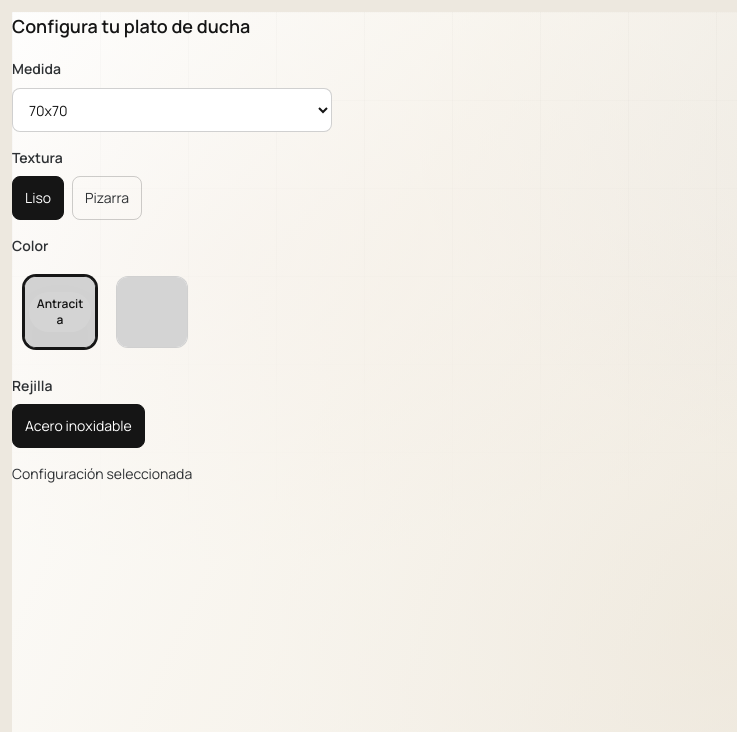
Test: duplach conventional selector › hides incompatible textures for Stone Plus measures instead of offering fakes
Select "100x100" in the dropdown labelled "Medida" at (172, 110), box [12, 88, 332, 132]
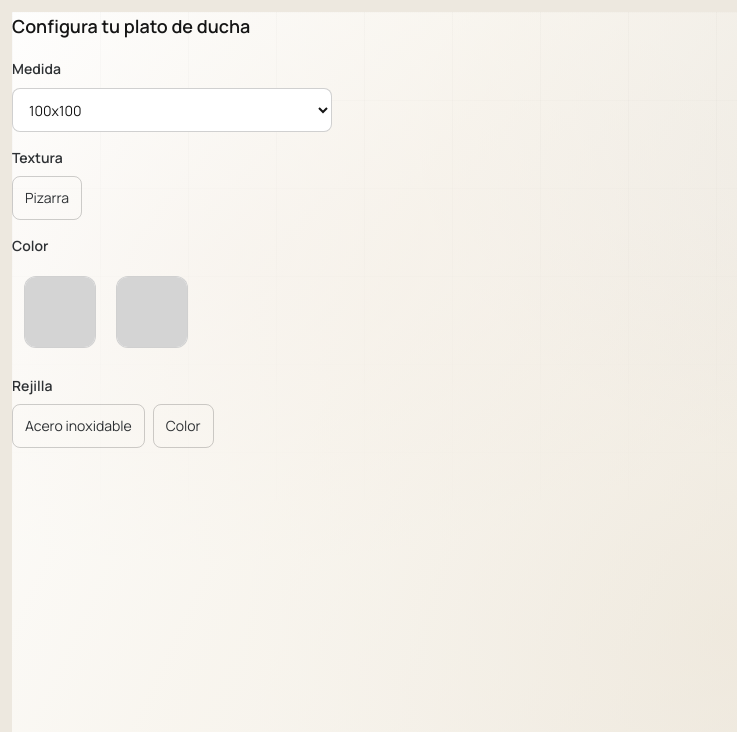
Result: the button "Liso" is gone
